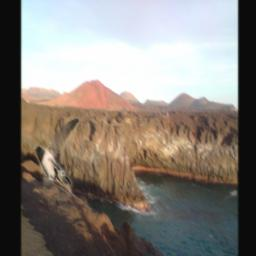Swallow: (34, 118, 80, 197)
